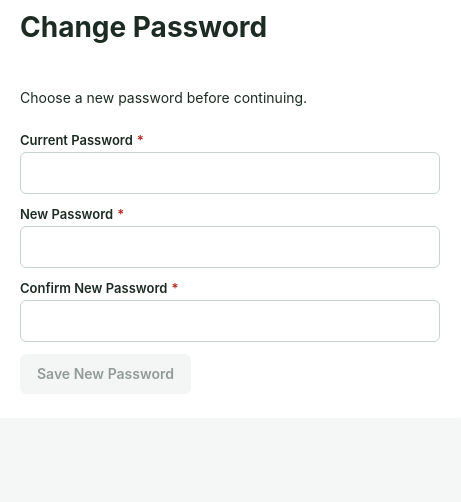
Test case: ChangePassword › shows the server's error message on a 401 (wrong current password)
Type "WrongPassword1" into the password field labelled "Current Password*".
click(230, 172); type("WrongPassword1")  # box [20,152,440,194]
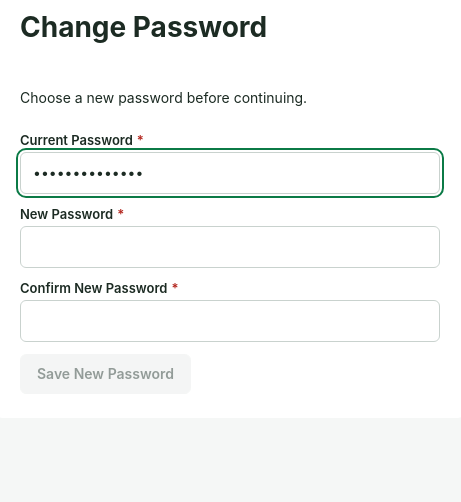
Type "NewPassword1" into the password field labelled "New Password*".
click(230, 246); type("NewPassword1")  # box [20,226,440,268]
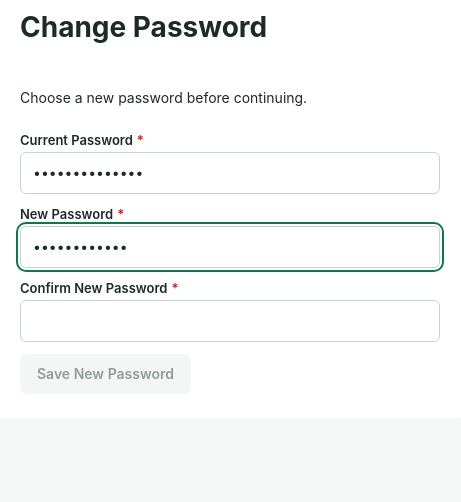
Type "NewPassword1" into the password field labelled "Confirm New Password*".
click(230, 320); type("NewPassword1")  # box [20,300,440,342]
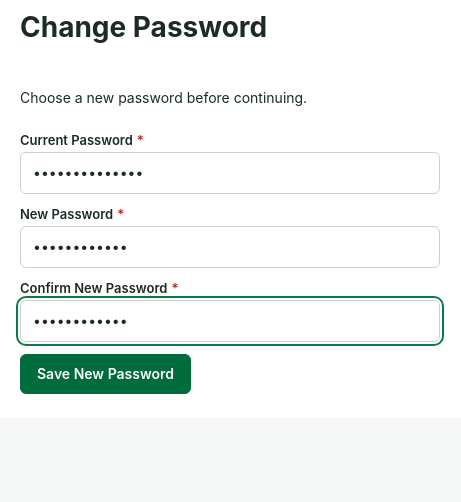
Click the button "Save New Password".
click(106, 374)  # box [20,354,191,394]
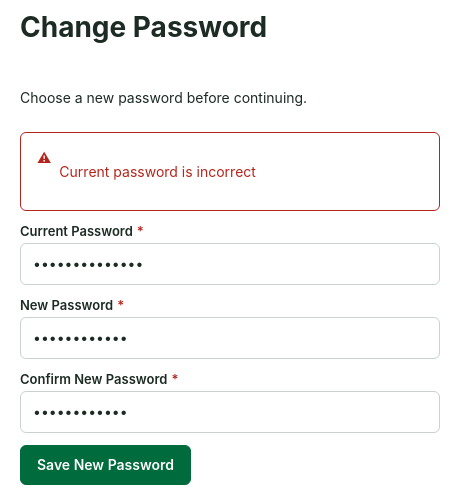
Expected: the text "Current password is incorrect" is shown, [59,162,256,180]
